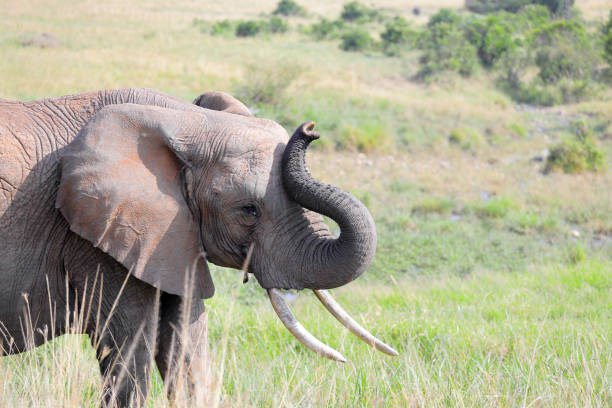africanelephant: (161, 92, 405, 362)
